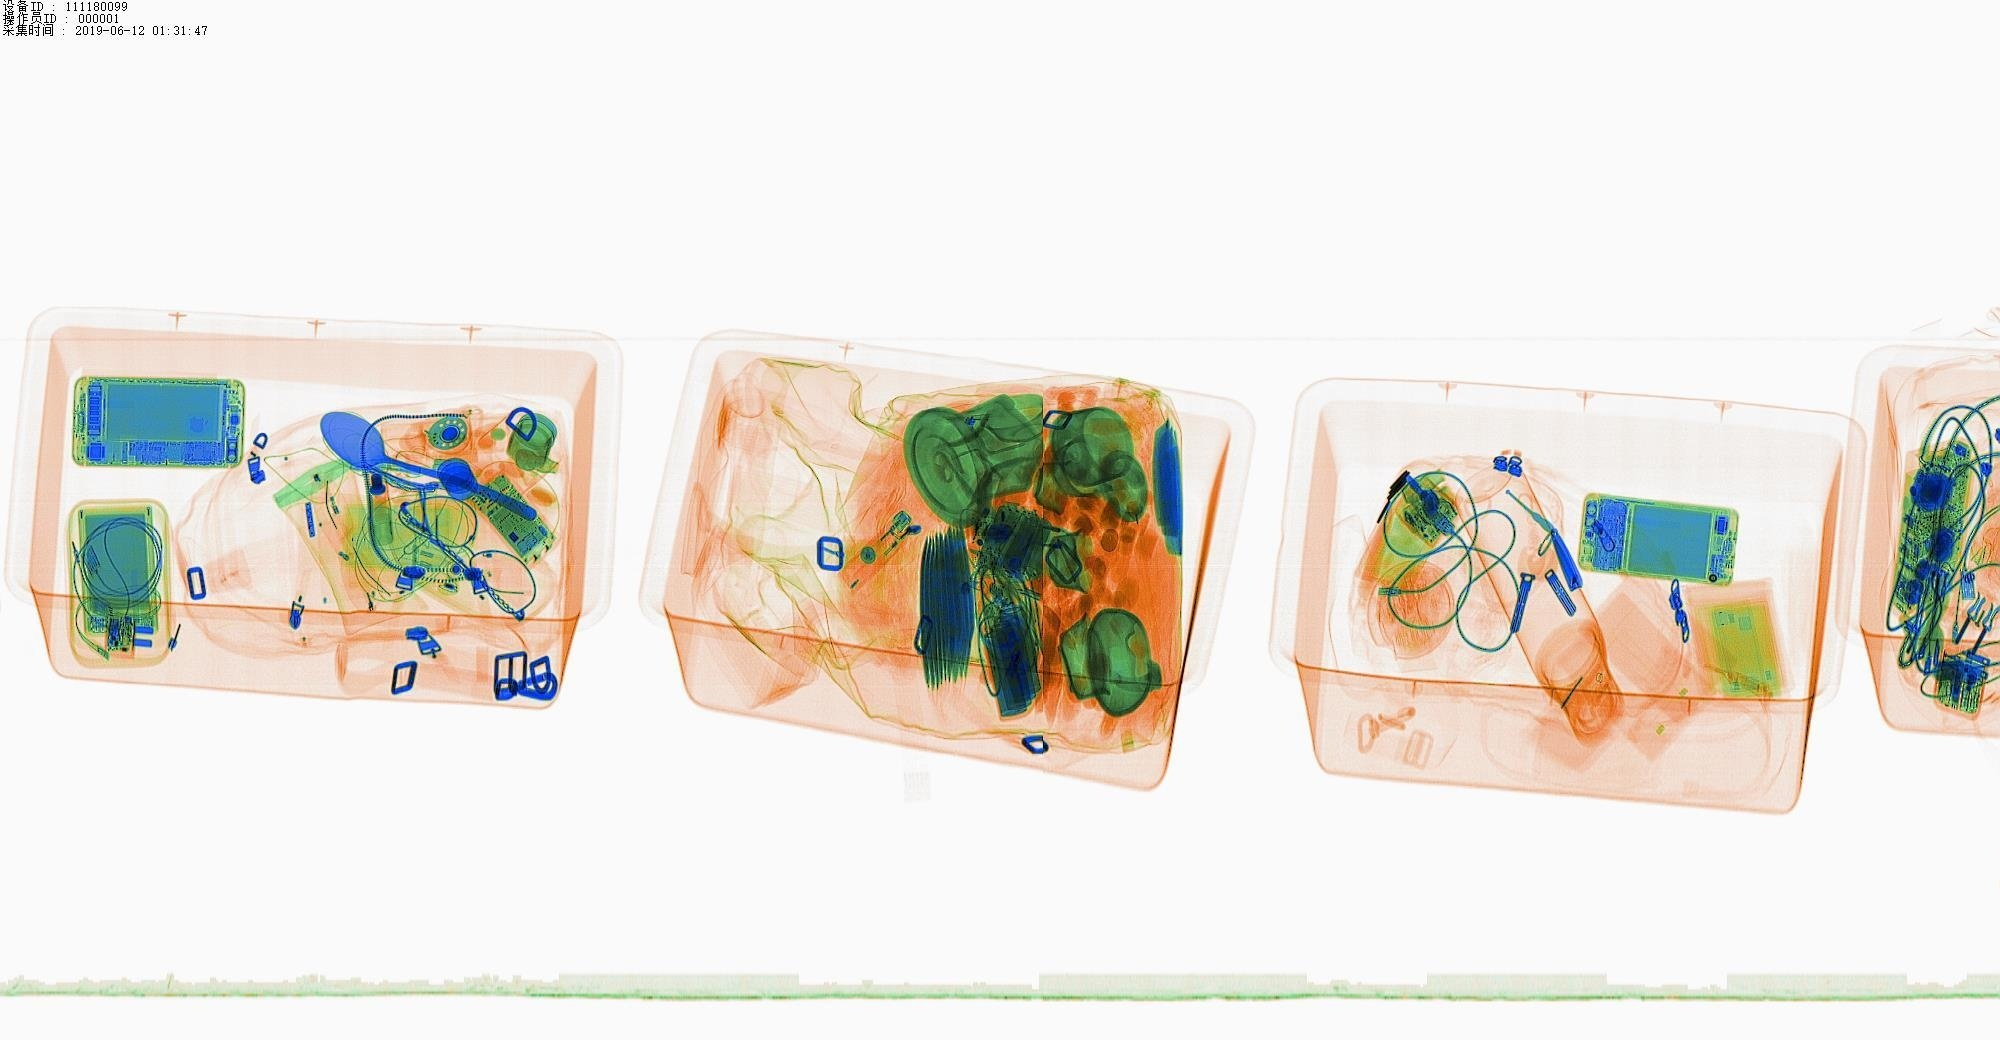NonmetallicFire: (811, 483, 944, 597)
